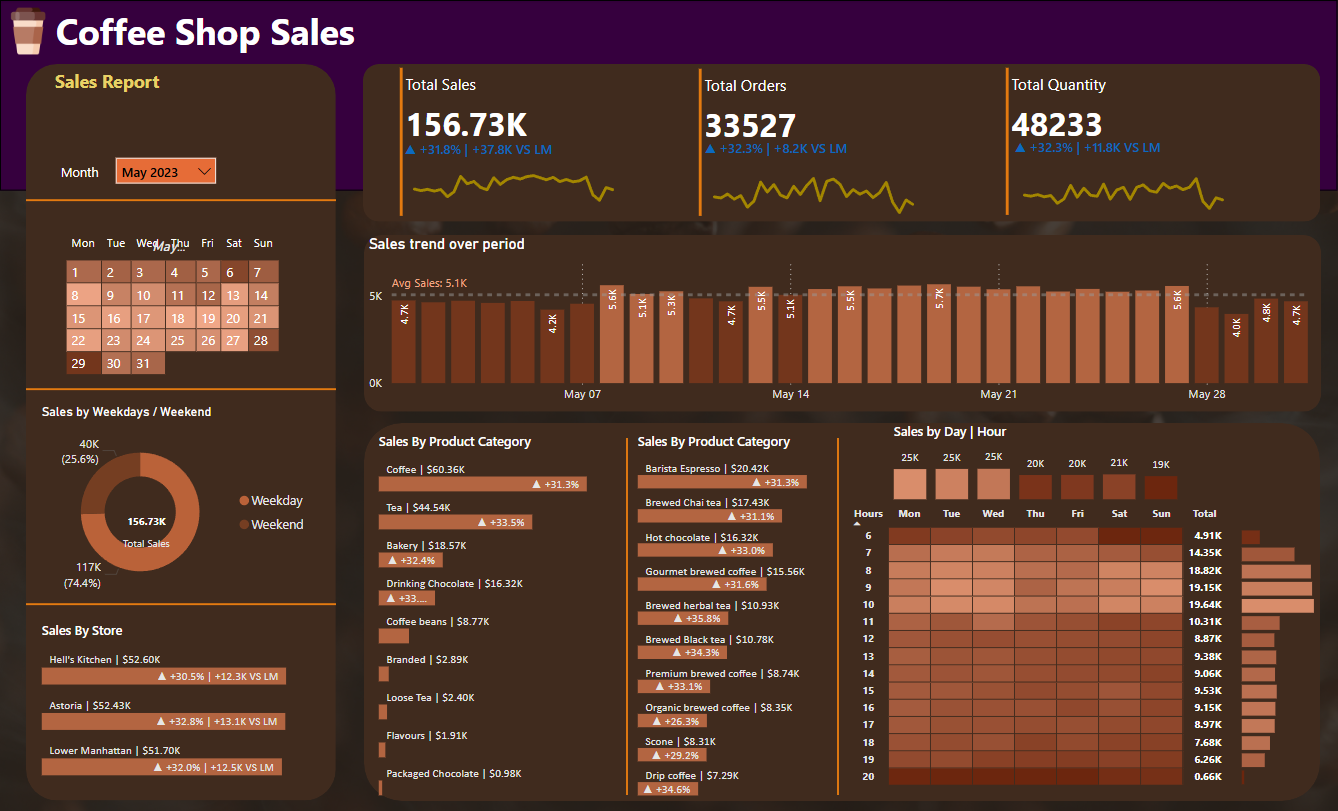

The dashboard page shown, as its layout file describes it:
{"tool":"powerbi","page":{"name":"Page 1","canvas":[1400,850],"ordinal":0},"visuals":[{"type":"shape","box":[0,0,1400,199.5],"z":0},{"type":"shape","box":[27.2,67,324.5,771.5],"z":1000},{"type":"shape","box":[381,442.8,1000.7,395.7],"z":1000},{"type":"shape","box":[380,66.8,1002,165.4],"z":2000,"group":"g4"},{"type":"textbox","box":[53.4,2.1,338.1,63.9],"z":3000},{"type":"cardVisual","fields":{"Data":["Transactions.Total Sales"]},"box":[413.2,65.9,273.4,165.4],"z":4000,"group":"g1"},{"type":"cardVisual","fields":{"Data":["Transactions.Total Quantity"]},"box":[1047.5,65.9,288.8,164.3],"z":4000,"group":"g3"},{"type":"cardVisual","fields":{"Data":["Transactions.Total Orders"]},"box":[726.2,66.9,288.8,164.3],"z":4000,"group":"g2"},{"type":"slicer","fields":{"Values":["Date Table.Month_year"]},"box":[116,160.2,115.1,39.8],"z":4000},{"type":"group","id":"g1","title":"Group 1","box":[413.2,65.9,274.3,165.4],"z":5000,"group":"g4"},{"type":"lineChart","fields":{"Category":["Date Table.Date Hierarchy.Date"],"Y":["Transactions.Total Quantity"]},"box":[1056.8,145.2,237.6,82.7],"z":5001,"group":"g3"},{"type":"lineChart","fields":{"Category":["Date Table.Date Hierarchy.Date"],"Y":["Transactions.Total Orders"]},"box":[733,146.2,237.6,82.7],"z":5001,"group":"g2"},{"type":"lineChart","fields":{"Category":["Date Table.Date Hierarchy.Date"],"Y":["Transactions.Total Sales"]},"box":[418.6,147,237.6,82.7],"z":5001,"group":"g1"},{"type":"group","id":"g2","title":"Group 1","box":[726.2,66.9,288.9,164.3],"z":6000,"group":"g4"},{"type":"group","id":"g3","title":"Group 1","box":[1047.5,65.9,288.9,164.3],"z":7000,"group":"g4"},{"type":"pivotTable","fields":{"Rows":["Date Table.WeekNum"],"Columns":["Date Table.day"],"Values":["Min(Date Table.DayNum)"]},"box":[38.7,237.2,293.1,194],"z":8000},{"type":"cardVisual","fields":{"Data":["Min(Date Table.Month_year)"]},"box":[142.4,225.1,94.2,57.6],"z":9000},{"type":"shape","box":[27.2,401,324.5,12.9],"z":10000},{"type":"shape","box":[27.2,202.8,324.5,12.9],"z":11000},{"type":"donutChart","title":"Sales by Weekdays / Weekend","fields":{"Category":["Date Table.Weekdays / Weekend sales"],"Y":["Transactions.Total Sales"]},"box":[38.7,423.6,293.1,209],"z":12000},{"type":"card","fields":{"Values":["Transactions.Total Sales"]},"box":[117.2,533.9,72.2,44],"z":13000},{"type":"shape","box":[650.1,458.5,12.6,373.7],"z":14000},{"type":"shape","box":[27.2,626.2,324.5,12.9],"z":14000},{"type":"shape","box":[381,246,1001.8,185.3],"z":15000},{"type":"columnChart","title":"Sales trend over period","fields":{"Category":["Transactions.transaction_date"],"Y":["Transactions.Total Sales"]},"box":[381,246,1001.8,185.3],"z":16000},{"type":"clusteredBarChart","title":"Sales By Store","fields":{"Category":["Transactions.store_location"],"Y":["Transactions.Placeholders","Transactions.Total Sales"]},"box":[38.7,651,293.1,168.1],"z":17000},{"type":"clusteredBarChart","title":"Sales By Product Category","fields":{"Y":["Transactions.Placeholders","Transactions.Total Sales"],"Category":["Transactions.product_category"]},"box":[391.5,453.3,258.6,385.2],"z":17001},{"type":"group","id":"g4","title":"Group 2","box":[380,65.9,1002.8,166.4],"z":17002},{"type":"clusteredBarChart","title":"Sales By Product Category","fields":{"Y":["Transactions.Placeholders","Transactions.Total Sales"],"Category":["Transactions.product_type"]},"box":[662.6,453.3,219.8,385.2],"z":17004},{"type":"shape","box":[870.9,458.5,12.6,373.7],"z":17005},{"type":"pivotTable","fields":{"Rows":["Transactions.Hours"],"Columns":["Date Table.day"],"Values":["Transactions.Total Sales"]},"box":[883.5,524.4,421.9,307.8],"z":17006},{"type":"barChart","fields":{"Category":["Transactions.Hours"],"Y":["Transactions.Total Sales"]},"box":[1294.9,542.2,86.9,283.7],"z":17007},{"type":"columnChart","title":"Sales by Day | Hour","fields":{"Y":["Transactions.Total Sales"],"Category":["Date Table.day"]},"box":[930.6,442.8,307.8,85.8],"z":17008},{"type":"textbox","box":[58.6,166.4,58.6,27.2],"z":17009},{"type":"textbox","box":[52.3,67,327.6,63.9],"z":17010},{"type":"image","box":[0,0,58.6,65.9],"z":17011}]}

Visuals, with their boxes in screenshot pixels (x1, y1, x2, y2), scaled from the page's 1400x850 canvas onto the 1338x811 screenshot:
shape: <bbox>0, 0, 1337, 190</bbox>
shape: <bbox>26, 64, 336, 800</bbox>
shape: <bbox>364, 422, 1321, 800</bbox>
shape: <bbox>363, 64, 1321, 222</bbox>
textbox: <bbox>51, 2, 374, 63</bbox>
cardVisual - Transactions.Total Sales: <bbox>395, 63, 656, 221</bbox>
cardVisual - Transactions.Total Quantity: <bbox>1001, 63, 1277, 220</bbox>
cardVisual - Transactions.Total Orders: <bbox>694, 64, 970, 221</bbox>
slicer - Date Table.Month_year: <bbox>111, 153, 221, 191</bbox>
"Group 1" group: <bbox>395, 63, 657, 221</bbox>
lineChart - Date Table.Date Hierarchy.Date x Transactions.Total Quantity: <bbox>1010, 139, 1237, 217</bbox>
lineChart - Date Table.Date Hierarchy.Date x Transactions.Total Orders: <bbox>701, 139, 928, 218</bbox>
lineChart - Date Table.Date Hierarchy.Date x Transactions.Total Sales: <bbox>400, 140, 627, 219</bbox>
"Group 1" group: <bbox>694, 64, 970, 221</bbox>
"Group 1" group: <bbox>1001, 63, 1277, 220</bbox>
pivotTable - Date Table.WeekNum x Date Table.day: <bbox>37, 226, 317, 411</bbox>
cardVisual - Min(Date Table.Month_year): <bbox>136, 215, 226, 270</bbox>
shape: <bbox>26, 383, 336, 395</bbox>
shape: <bbox>26, 193, 336, 206</bbox>
"Sales by Weekdays / Weekend" donutChart: <bbox>37, 404, 317, 604</bbox>
card - Transactions.Total Sales: <bbox>112, 509, 181, 551</bbox>
shape: <bbox>621, 437, 633, 794</bbox>
shape: <bbox>26, 597, 336, 610</bbox>
shape: <bbox>364, 235, 1322, 412</bbox>
"Sales trend over period" columnChart: <bbox>364, 235, 1322, 412</bbox>
"Sales By Store" clusteredBarChart: <bbox>37, 621, 317, 782</bbox>
"Sales By Product Category" clusteredBarChart: <bbox>374, 433, 621, 800</bbox>
"Group 2" group: <bbox>363, 63, 1322, 222</bbox>
"Sales By Product Category" clusteredBarChart: <bbox>633, 433, 843, 800</bbox>
shape: <bbox>832, 437, 844, 794</bbox>
pivotTable - Transactions.Hours x Date Table.day: <bbox>844, 500, 1248, 794</bbox>
barChart - Transactions.Hours x Transactions.Total Sales: <bbox>1238, 517, 1321, 788</bbox>
"Sales by Day | Hour" columnChart: <bbox>889, 422, 1184, 504</bbox>
textbox: <bbox>56, 159, 112, 185</bbox>
textbox: <bbox>50, 64, 363, 125</bbox>
image: <bbox>0, 0, 56, 63</bbox>
